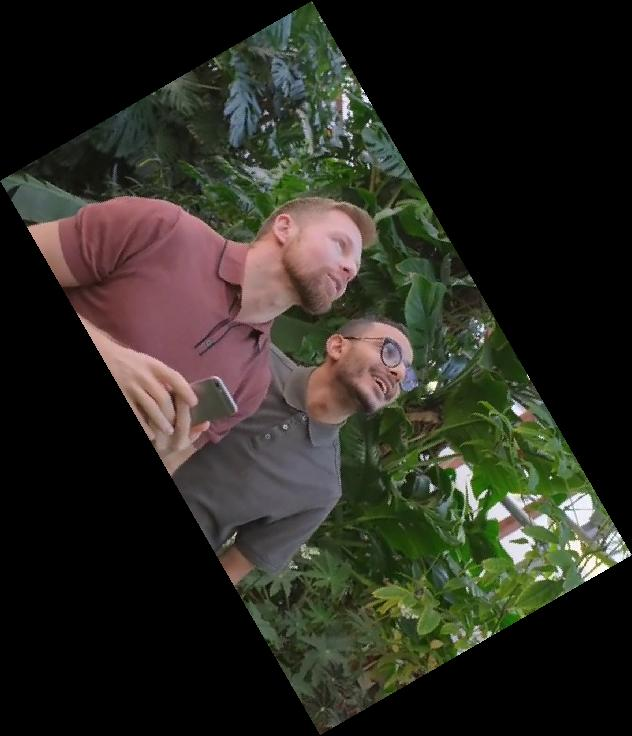phone: (183, 371, 240, 427)
